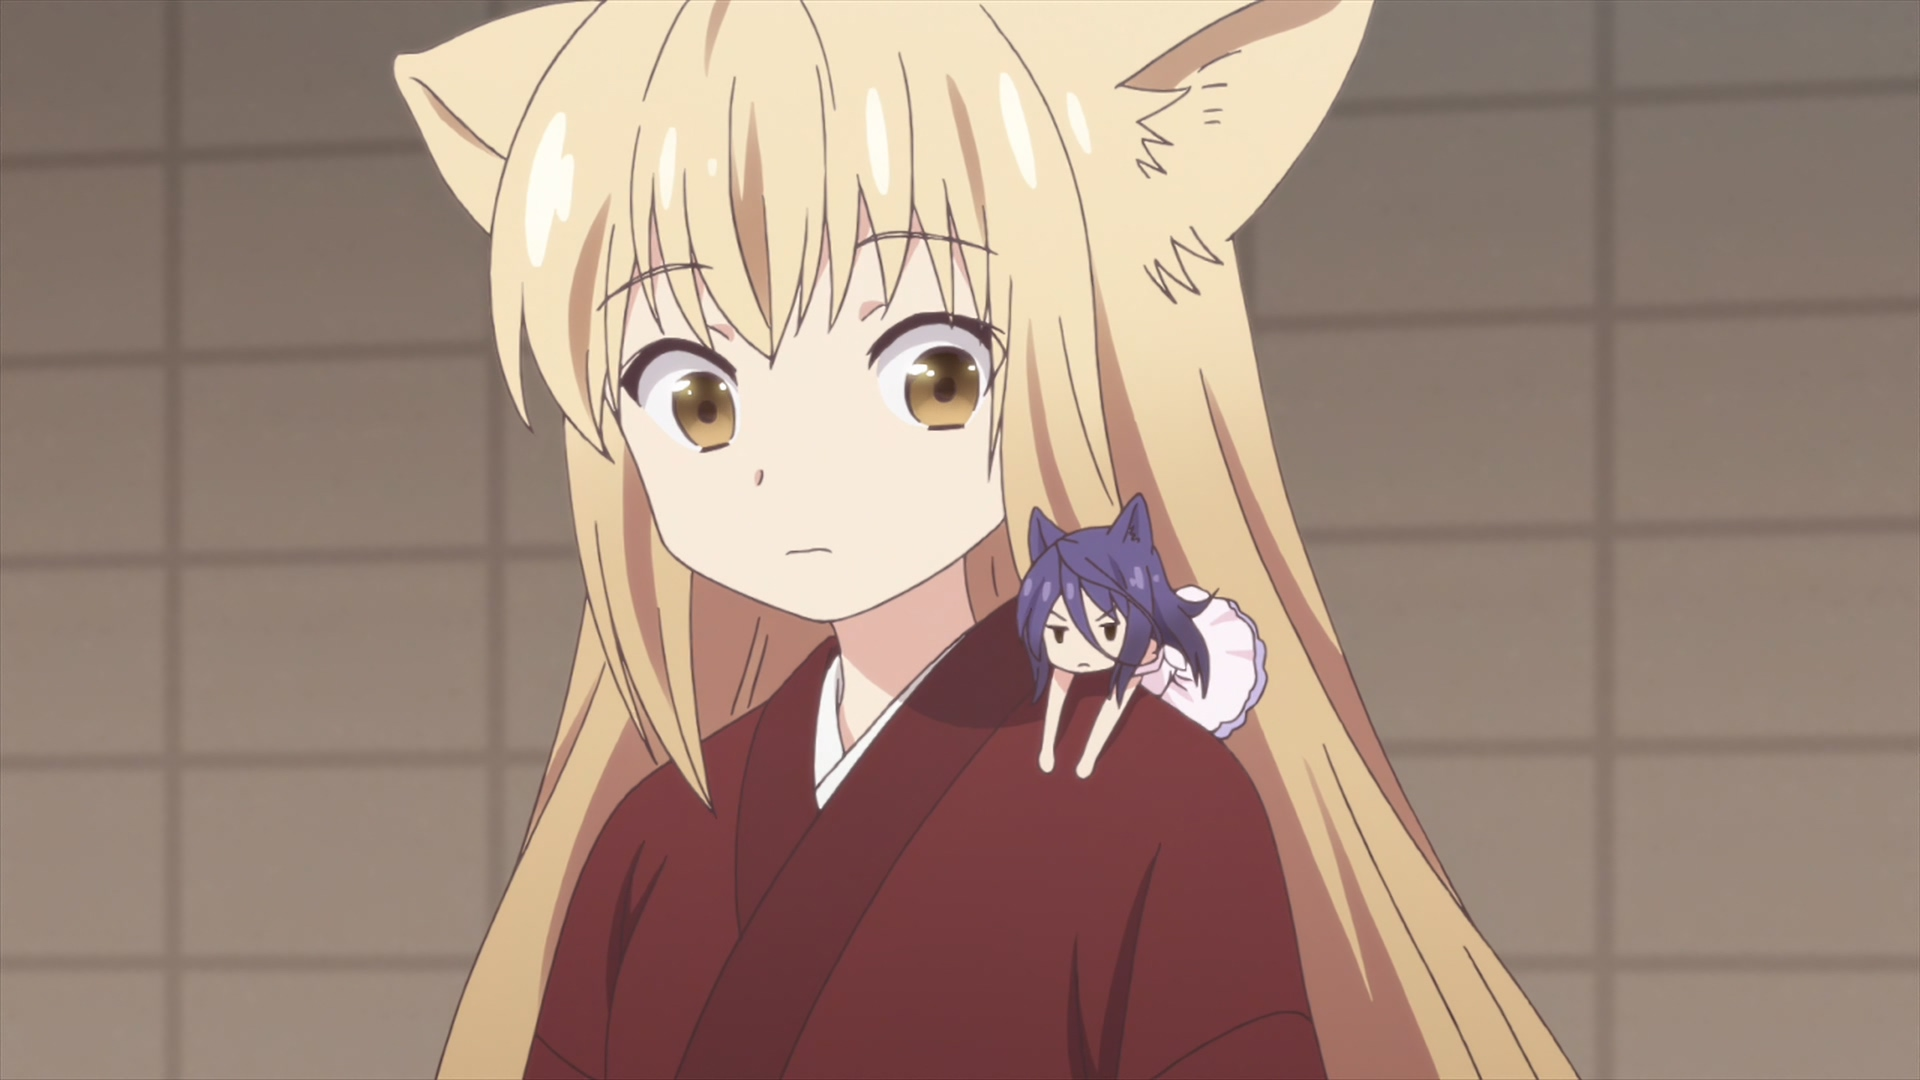柚: (393, 1, 1582, 1080)
皋: (1015, 495, 1269, 781)
